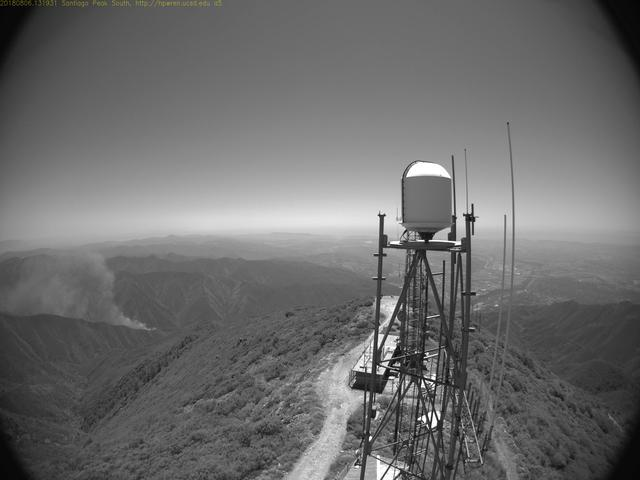smoke: (2, 243, 151, 334)
